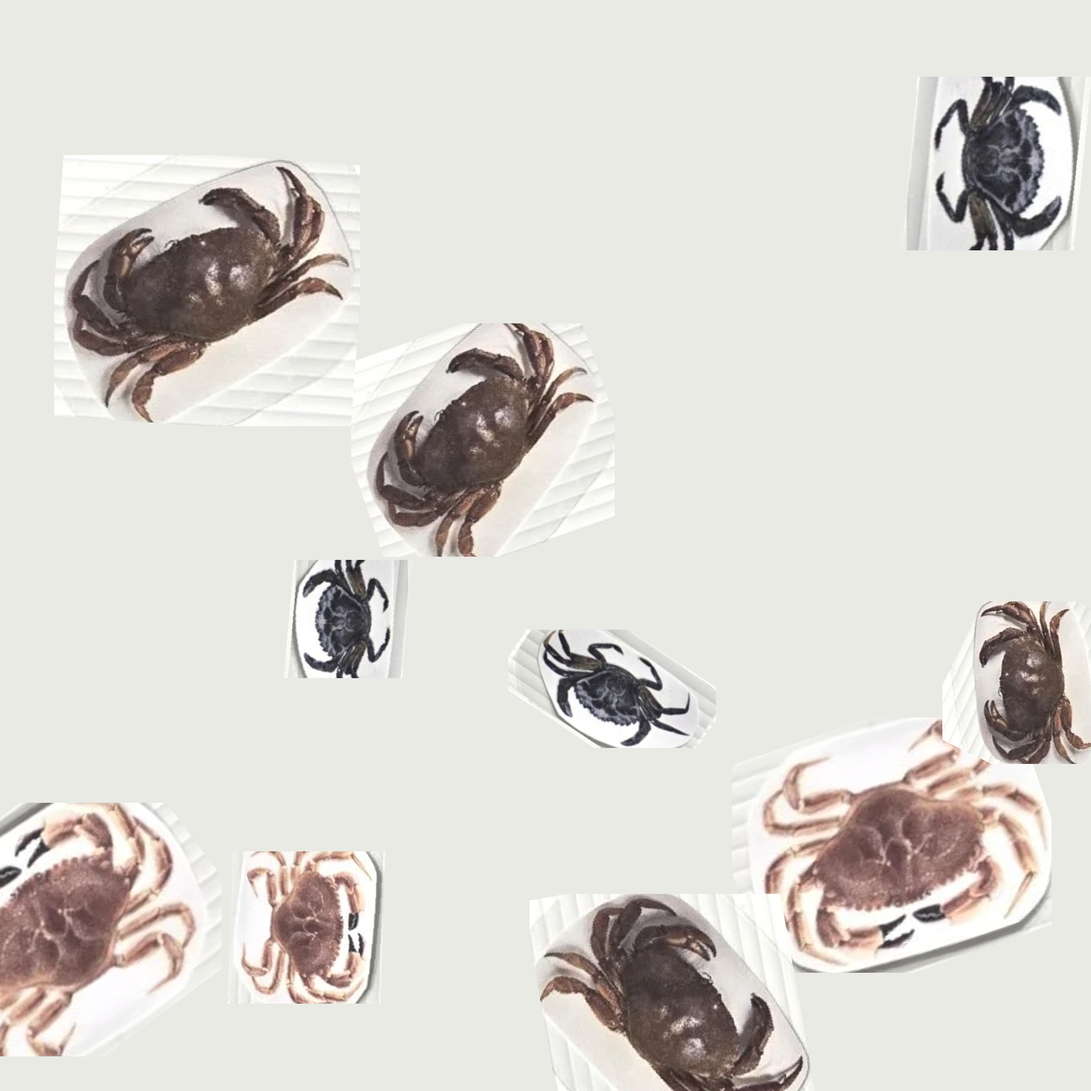evil: (909, 67, 1077, 244), (508, 606, 707, 754), (286, 547, 412, 696)
normal: (67, 151, 359, 435), (530, 878, 855, 1091), (339, 323, 620, 544), (738, 754, 1052, 945), (0, 799, 196, 1041), (224, 850, 393, 1007), (948, 614, 1091, 752)
